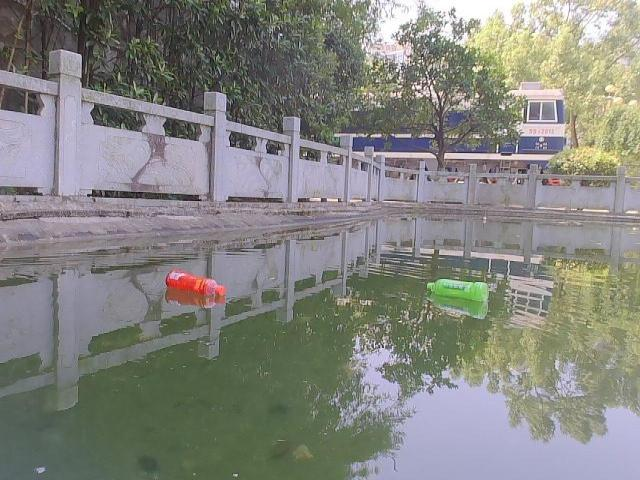Bottle: (158, 266, 232, 306), (422, 276, 493, 308)
